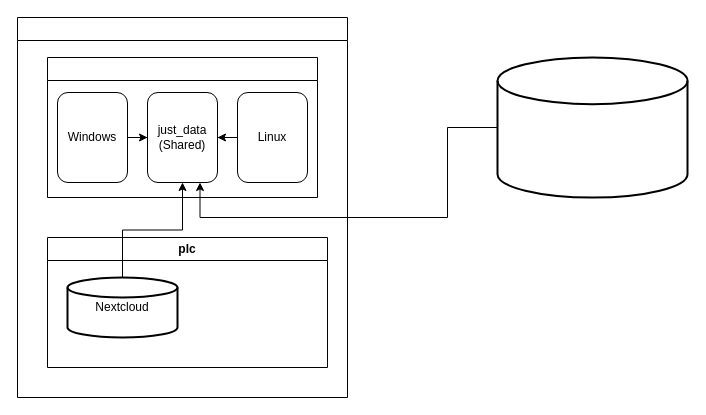
The diagram is 706 pixels wide and 415 high, and some of its shapes have lost their labels. The shapes that lost their labels are listed below. From the top down, each one's box as (x1, y1, x2, y2) in pixels, then its label:
(46, 56, 318, 198): SAM-PC
(496, 56, 688, 198): Github
(16, 16, 348, 398): CircleLab
